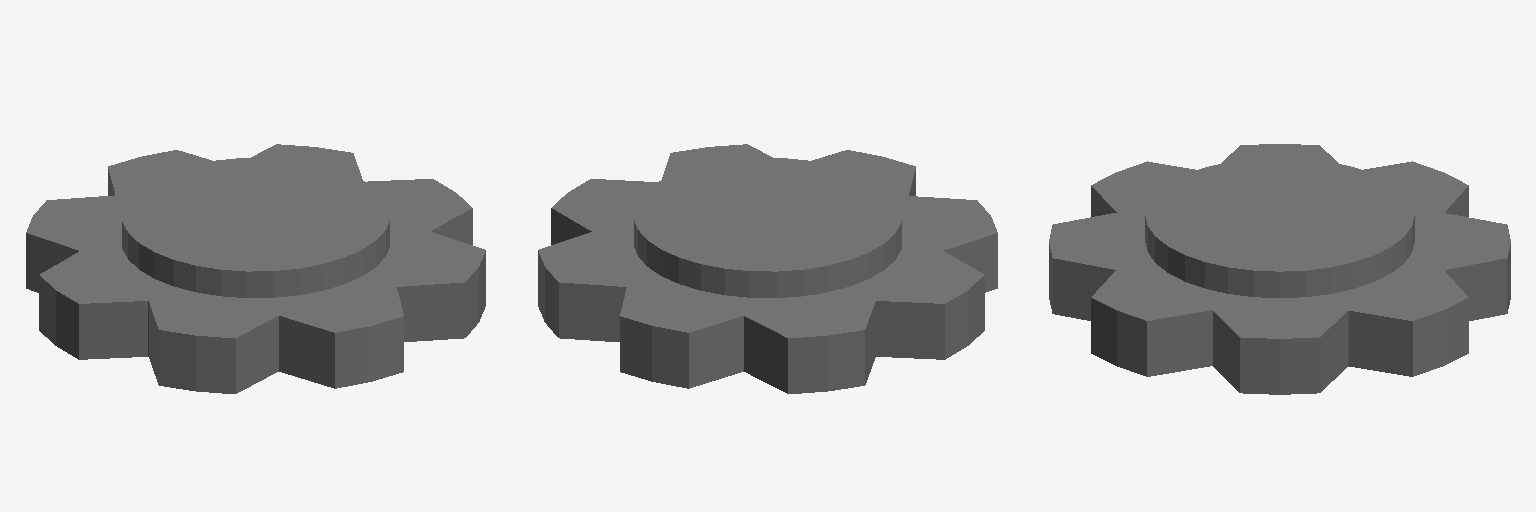
3 views of the same model, side by side, from view 1: azimuth 30°, elevation 25°; view 2: azimuth 150°, elevation 25°; view 3: azimuth 270°, elevation 25° (orthographic).
Visible parts, largest first — view 1: 円柱.001_円柱.001; view 2: 円柱.001_円柱.001; view 3: 円柱.001_円柱.001.
Boxes of the visible parts, x1=… form: 円柱.001_円柱.001: x1=26, y1=144, x2=485, y2=393; 円柱.001_円柱.001: x1=538, y1=144, x2=997, y2=393; 円柱.001_円柱.001: x1=1049, y1=144, x2=1510, y2=394.
Bounding box in the file's own units: 2.61 × 0.5139 × 2.61.
Materials: 1 (1 with a texture image).